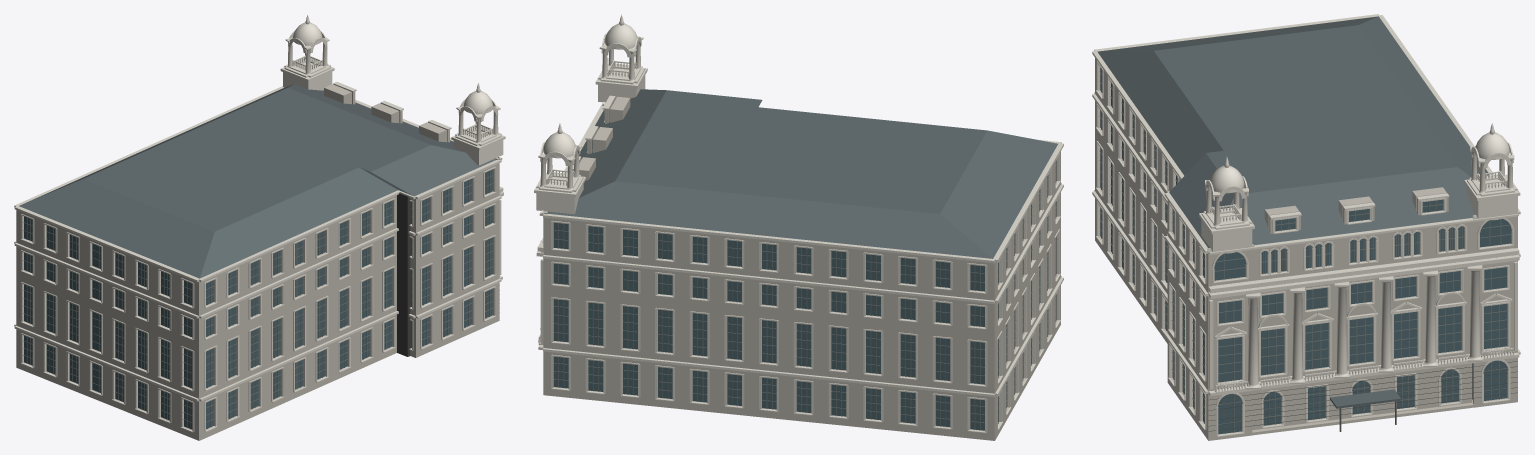
The model's file is bund02.glb.
3 renders of one model, left to right at view 1: azimuth 30°, elevation 25°; view 2: azimuth 150°, elevation 25°; view 3: azimuth 270°, elevation 25°, orthographic. The views are drawn at different scales.
Size of the model in its own units: 65.25 by 35 by 49.
